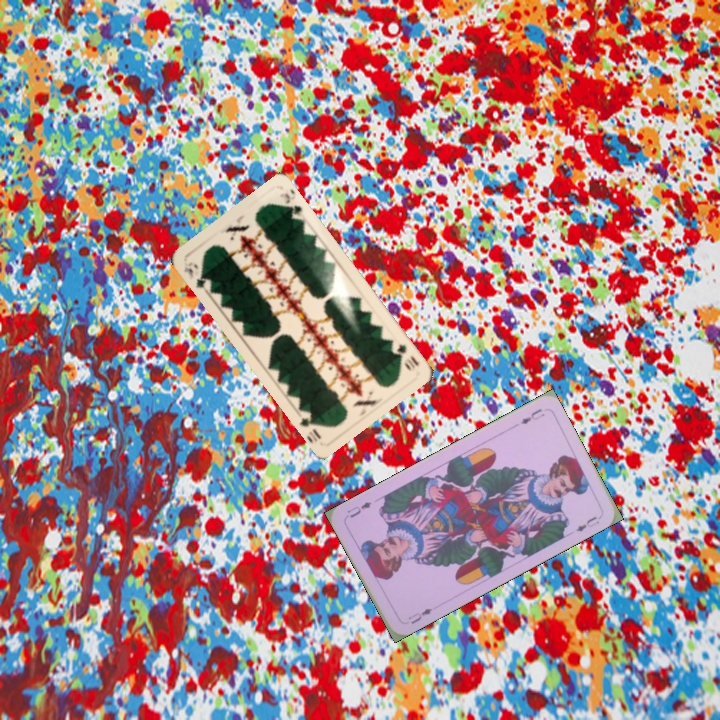EU: (404, 604, 435, 627), (517, 404, 547, 427)
G10: (180, 258, 214, 294), (393, 340, 421, 373)
